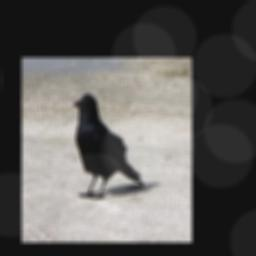Crow: (70, 92, 145, 200)
